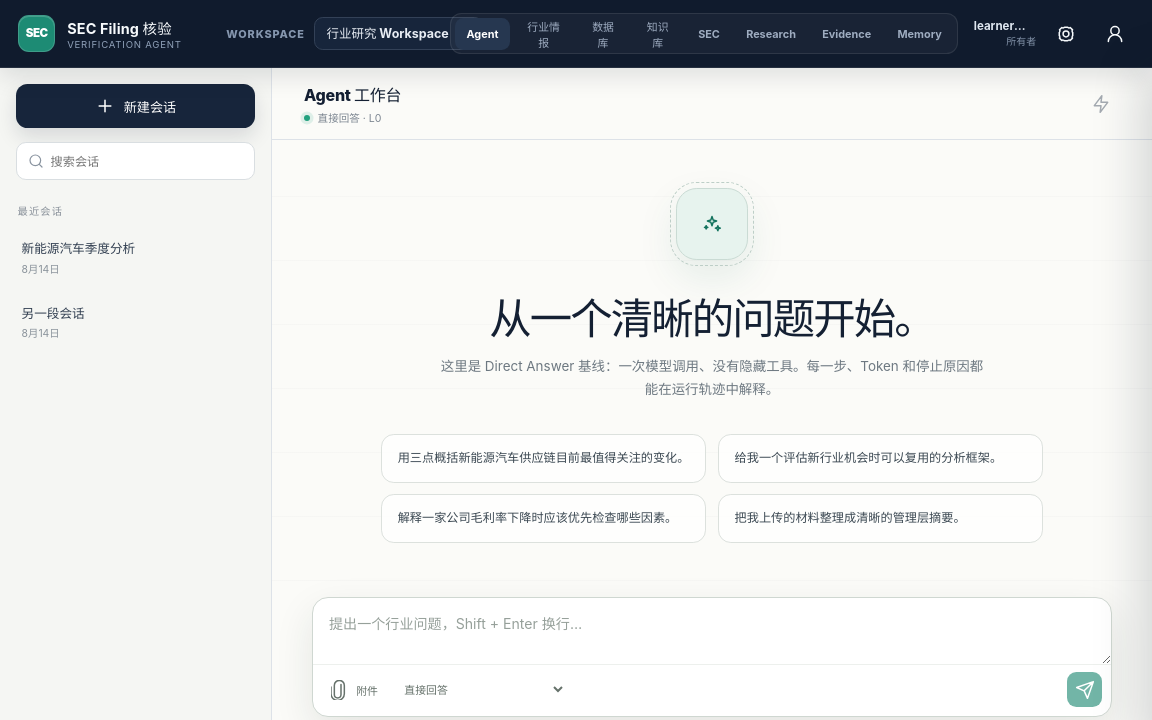
Scenario: Chat Workbench › never shows one conversation's messages underneath another conversation's title
The width and height of the screenshot is (1152, 720).
Step 1. Click the button "新能源汽车季度分析 8月14日" → (132, 257), box 10,227 -> 254,288
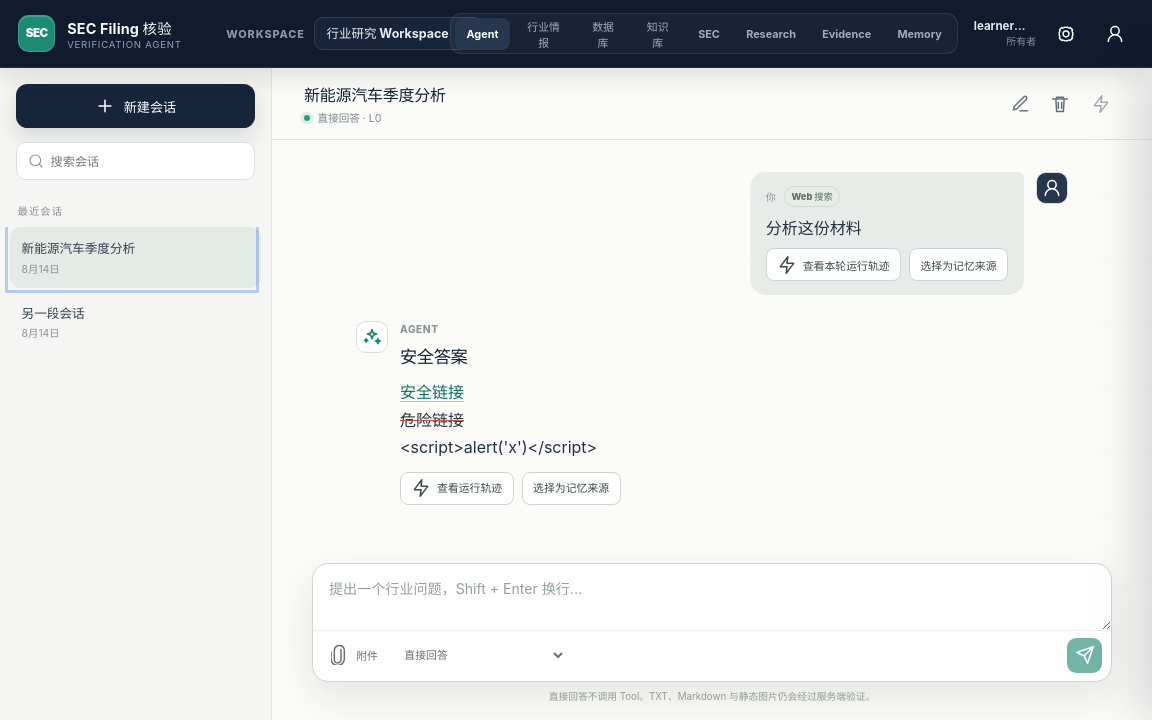
Check: the heading "安全答案" is shown, box 400,346 -> 467,367
Step 2. Click the button "另一段会话 8月14日" → (132, 321), box 10,291 -> 254,352
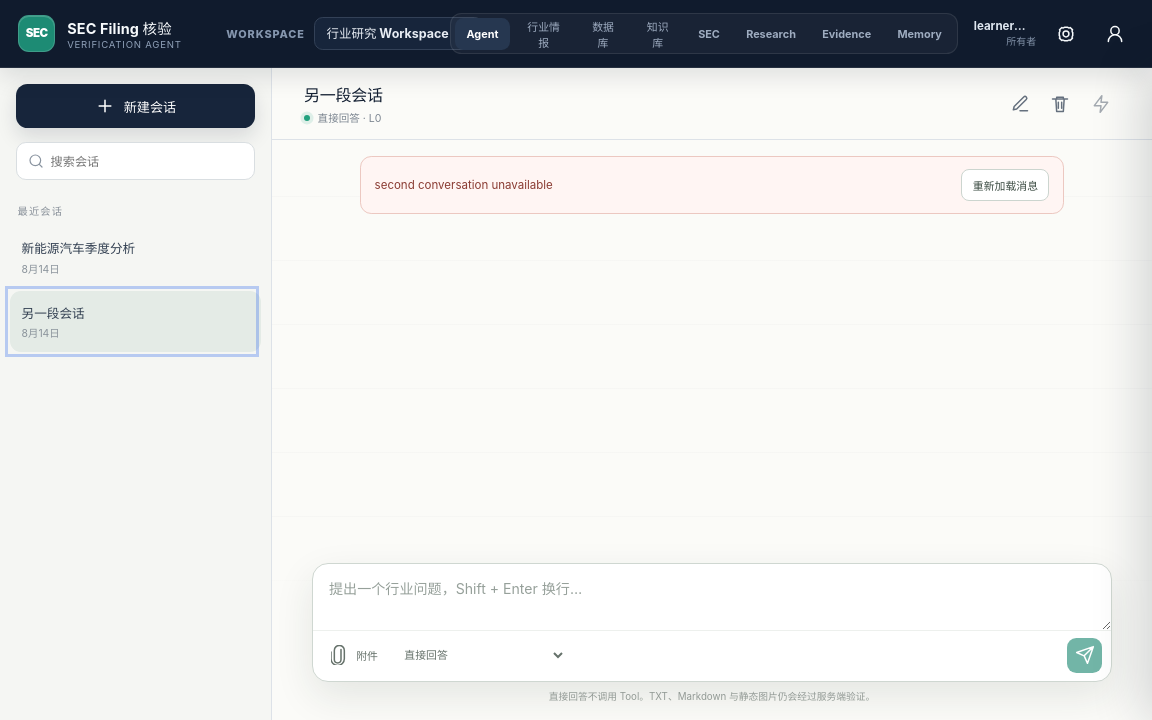
Check: the heading "另一段会话" is shown, box 304,82 -> 383,106
Check: the text "second conversation unavailable" is shown, box 375,178 -> 553,192
Check: the heading "安全答案" is gone
